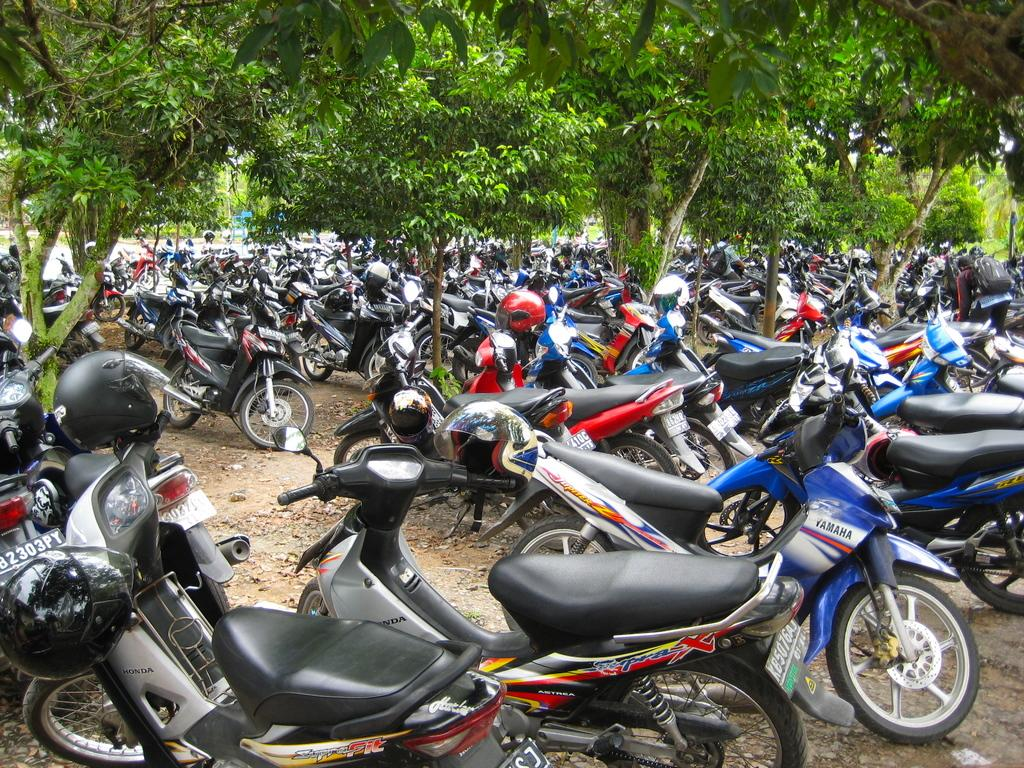helmet: (0, 548, 133, 681), (53, 350, 174, 451), (433, 398, 539, 494), (388, 386, 433, 444), (494, 290, 547, 335), (652, 275, 690, 315), (320, 288, 353, 315), (365, 261, 391, 292), (549, 253, 573, 275), (0, 256, 21, 276)
